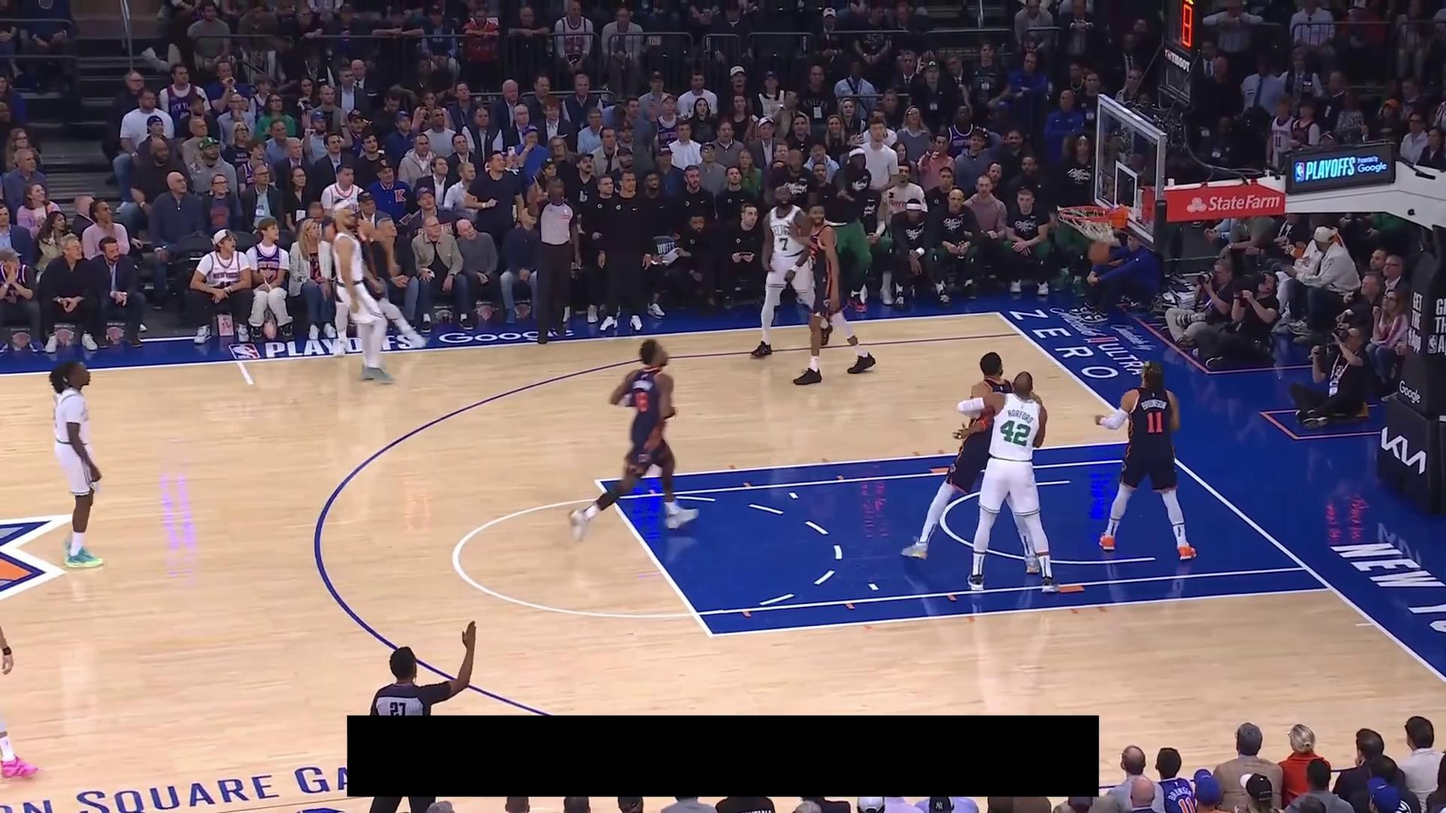ball: (1087, 239, 1112, 266)
number: (1000, 419, 1031, 446), (1146, 410, 1164, 435), (637, 391, 649, 413), (778, 236, 790, 252)
player: (900, 350, 1039, 563), (566, 336, 700, 544), (964, 370, 1060, 595), (1092, 357, 1197, 562), (784, 199, 877, 386), (749, 182, 834, 360), (334, 208, 427, 357), (50, 358, 107, 572), (333, 207, 395, 384), (0, 550, 41, 782)
referee: (368, 619, 477, 813), (526, 176, 582, 345)
rim: (1057, 205, 1112, 221)
